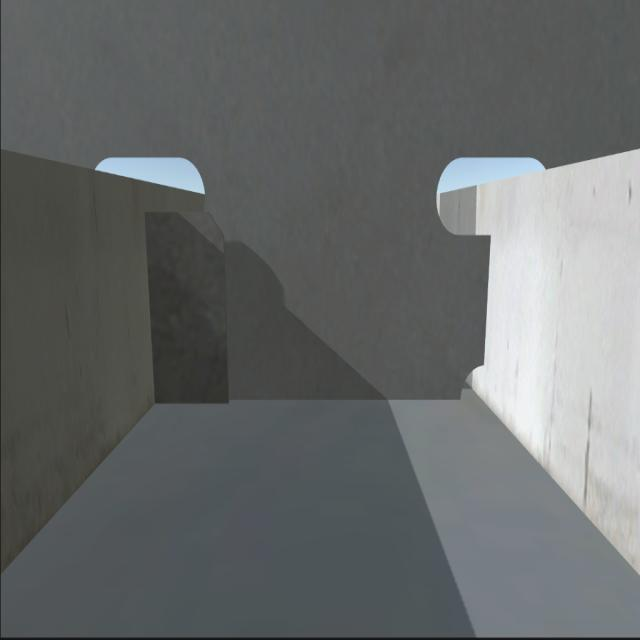fillet_hole: (454, 352, 488, 406)
fillet_yong_jeop_jang: (152, 392, 462, 404)
longi_yong_jeop_jang: (139, 216, 161, 404), (477, 235, 495, 361)
plate_CP03: (143, 207, 230, 400)
